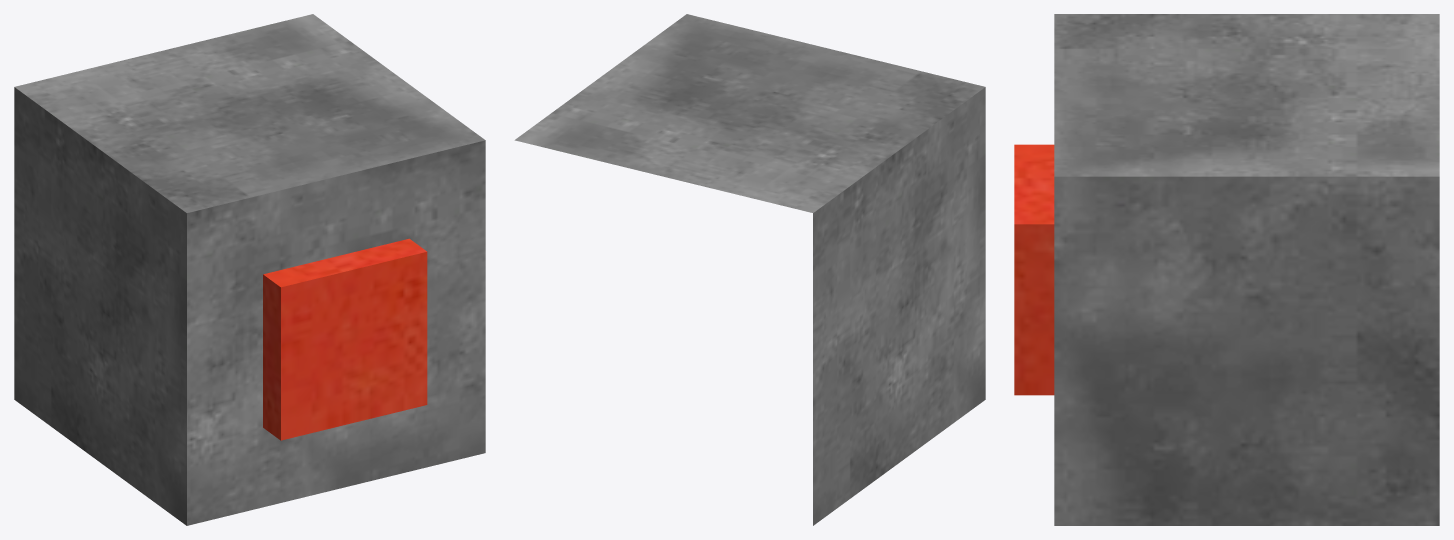
Rendered from lock active.glb.
The picture shows the model from 3 angles, left to right: view 1: azimuth 30°, elevation 25°; view 2: azimuth 150°, elevation 25°; view 3: azimuth 270°, elevation 25°; orthographic projection. The views are drawn at different scales.
Visible parts, largest first — view 1: Cube_001; view 2: Cube_001; view 3: Cube_001.
Boxes of the visible parts, <box> form: Cube_001: <box>14,14,485,525</box>; Cube_001: <box>514,14,985,525</box>; Cube_001: <box>1014,14,1439,525</box>.
Bounding box in the file's own units: 0.1241 × 0.1241 × 0.1369.
2 materials, 2 textured.
